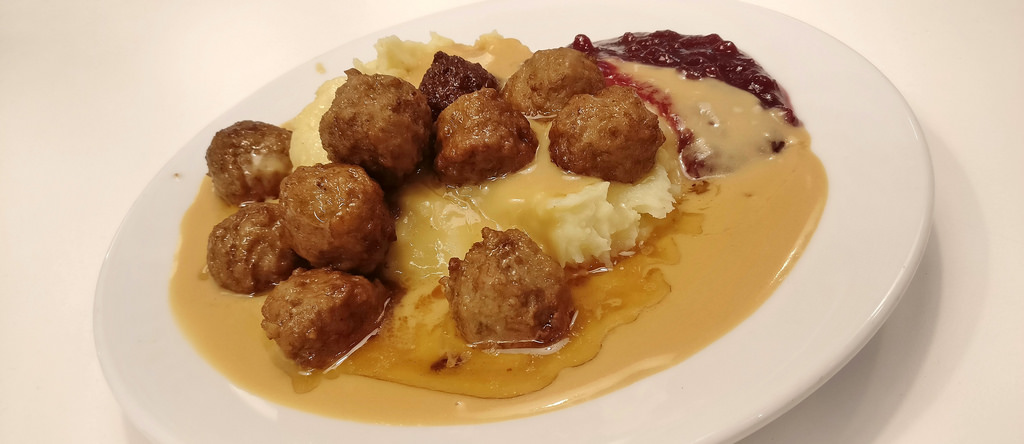meatballs: (452, 52, 675, 155), (217, 196, 363, 342), (447, 224, 573, 342), (334, 78, 419, 163), (209, 119, 288, 201)
